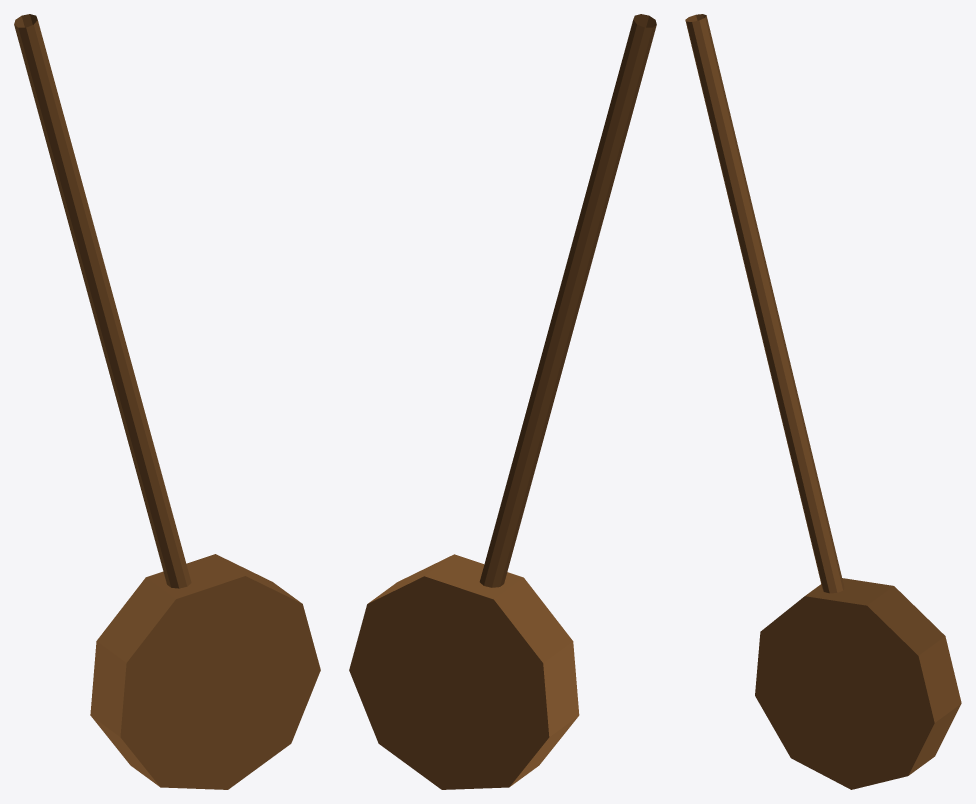
File: pendulo.obj
The picture shows the model from 3 angles, left to right: view 1: azimuth 30°, elevation 25°; view 2: azimuth 150°, elevation 25°; view 3: azimuth 330°, elevation 25°; orthographic projection. The views are drawn at different scales.
Visible parts, largest first — view 1: polySurface10; view 2: polySurface10; view 3: polySurface10.
Boxes of the visible parts, x1,y1,x2,y2 form: polySurface10: (14, 14, 320, 789); polySurface10: (349, 14, 656, 789); polySurface10: (685, 14, 961, 789).
Bounding box in the file's own units: 1.06 × 2.81 × 0.19.
Materials: 1 (1 with a texture image).
